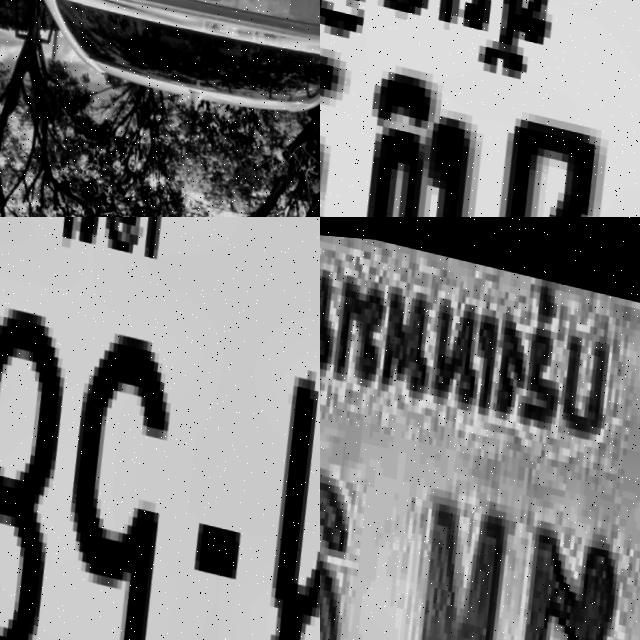license-plate: (0, 217, 320, 640), (320, 217, 640, 640), (320, 0, 640, 217)
